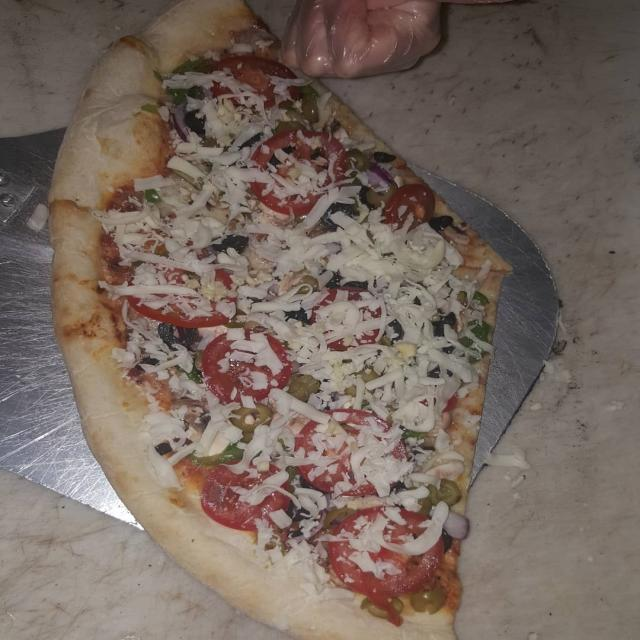pizza: (50, 0, 509, 640)
tomatoes: (328, 502, 449, 625), (294, 409, 411, 496), (251, 130, 347, 216), (114, 262, 236, 328), (202, 329, 292, 402), (202, 465, 290, 530), (309, 286, 386, 351)
